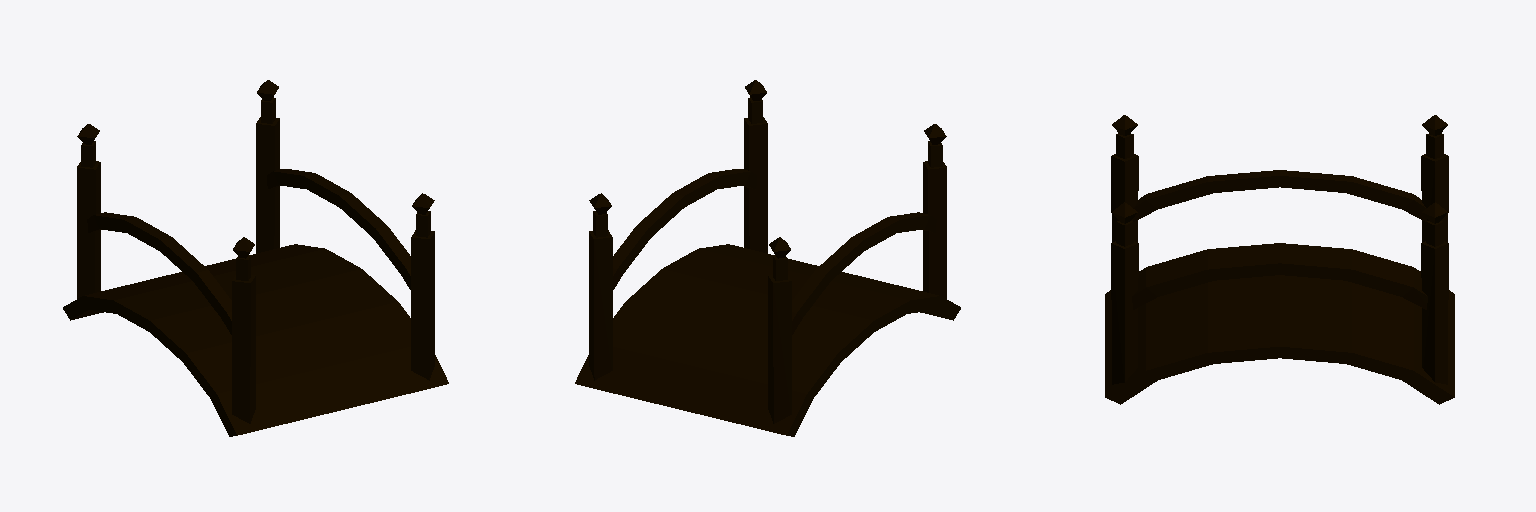
Rendered from Bridge1.obj.
The picture shows the model from 3 angles: view 1: azimuth 30°, elevation 25°; view 2: azimuth 150°, elevation 25°; view 3: azimuth 270°, elevation 25°; orthographic projection.
Parts seen in each view (by area): view 1: Bridge1_Cylinder.021; view 2: Bridge1_Cylinder.021; view 3: Bridge1_Cylinder.021.
Boxes of the visible parts, x1=… form: Bridge1_Cylinder.021: x1=63, y1=80, x2=448, y2=436; Bridge1_Cylinder.021: x1=575, y1=80, x2=960, y2=436; Bridge1_Cylinder.021: x1=1105, y1=115, x2=1454, y2=404.
Bounding box in the file's own units: 3.1 × 2.71 × 4.43.